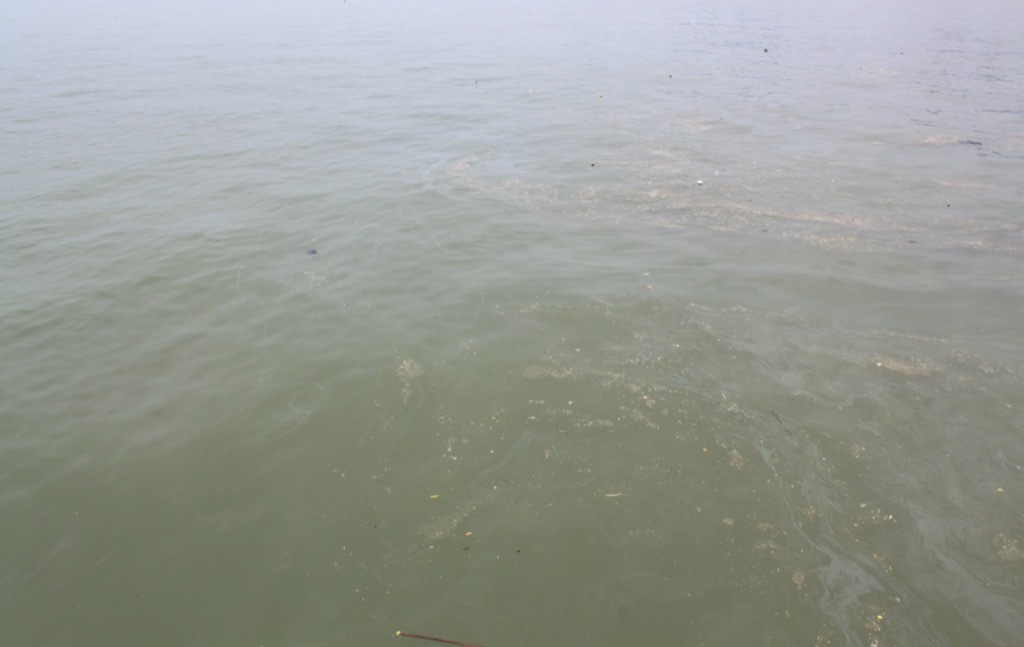organic: (375, 613, 499, 647), (507, 542, 532, 561), (454, 539, 478, 556), (756, 41, 776, 58), (659, 68, 678, 83), (942, 198, 958, 212), (586, 157, 599, 174), (593, 90, 607, 103)
plastic: (300, 241, 326, 263), (690, 174, 713, 191)
